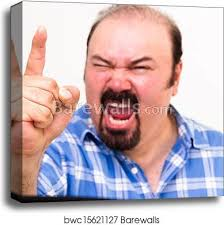white_male: (86, 26, 170, 151)
